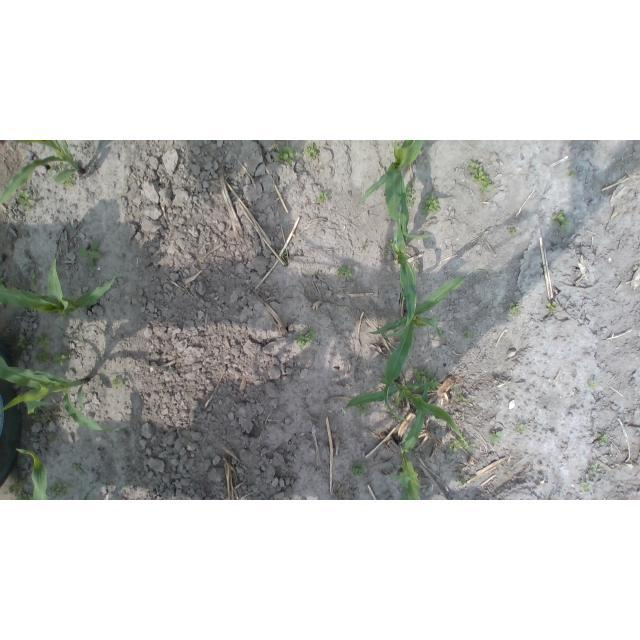Maize: (368, 268, 480, 421), (0, 354, 120, 433), (344, 377, 473, 450), (0, 250, 116, 317), (361, 140, 435, 240), (0, 140, 84, 204), (386, 376, 429, 501), (384, 221, 417, 340), (16, 447, 48, 500)
Weeds: (467, 160, 494, 194), (80, 240, 106, 269), (8, 477, 33, 500), (296, 325, 317, 348), (17, 187, 35, 212), (49, 482, 72, 500), (275, 145, 295, 165), (551, 212, 571, 231), (414, 367, 437, 383), (422, 195, 440, 214), (53, 351, 72, 368), (450, 438, 474, 451), (349, 460, 367, 477), (35, 331, 52, 348), (34, 350, 52, 366), (304, 142, 320, 158), (49, 160, 67, 174), (405, 184, 416, 206), (338, 266, 355, 280), (506, 301, 521, 316), (357, 401, 372, 415), (63, 175, 78, 188), (72, 463, 85, 475), (42, 416, 55, 428), (111, 377, 125, 388), (589, 463, 601, 475), (316, 192, 329, 203), (31, 407, 41, 421), (490, 431, 502, 442), (598, 434, 609, 445), (457, 393, 468, 404), (16, 339, 28, 349), (546, 300, 556, 312), (30, 275, 37, 286), (516, 424, 524, 433), (62, 314, 72, 321), (459, 477, 469, 484), (508, 227, 516, 235), (463, 330, 471, 338), (386, 238, 394, 246), (584, 484, 591, 493), (72, 333, 82, 339), (568, 169, 576, 176), (48, 435, 57, 441), (589, 382, 595, 390), (281, 252, 288, 258), (361, 242, 367, 248), (417, 267, 422, 272), (595, 140, 601, 144), (413, 452, 417, 458)
